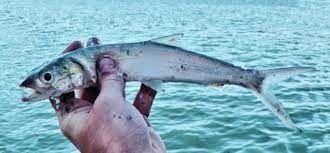Tenpounder: (20, 27, 317, 132)
